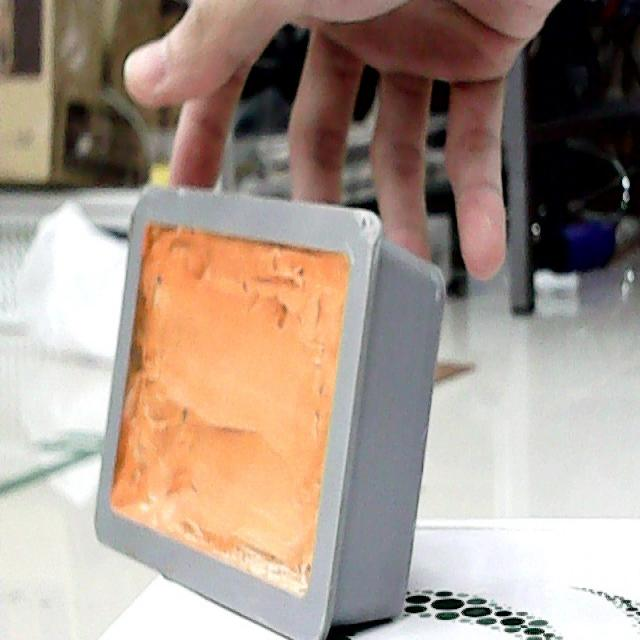block: (96, 183, 442, 640)
